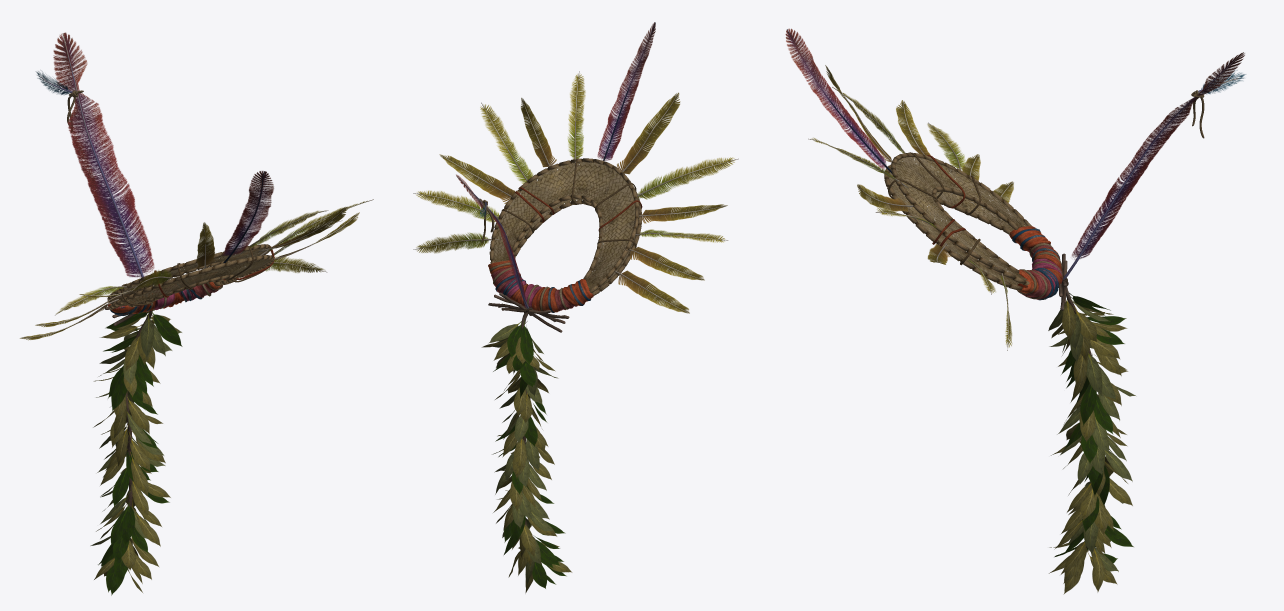
The model's file is SM_CoronaDiadema.glb.
3 views of the same model, side by side, from view 1: azimuth 30°, elevation 25°; view 2: azimuth 150°, elevation 25°; view 3: azimuth 270°, elevation 25° (orthographic). The views are drawn at different scales.
Parts seen in each view (by area): view 1: Corona_Low; view 2: Corona_Low; view 3: Corona_Low.
Part boxes in pixels (x1,y1,x2,y2): Corona_Low: [20, 32, 373, 595]; Corona_Low: [413, 22, 738, 593]; Corona_Low: [785, 28, 1245, 594].
Size of the model in its own units: 0.5057 by 0.7818 by 0.616.
Materials: 4 (4 with a texture image).
